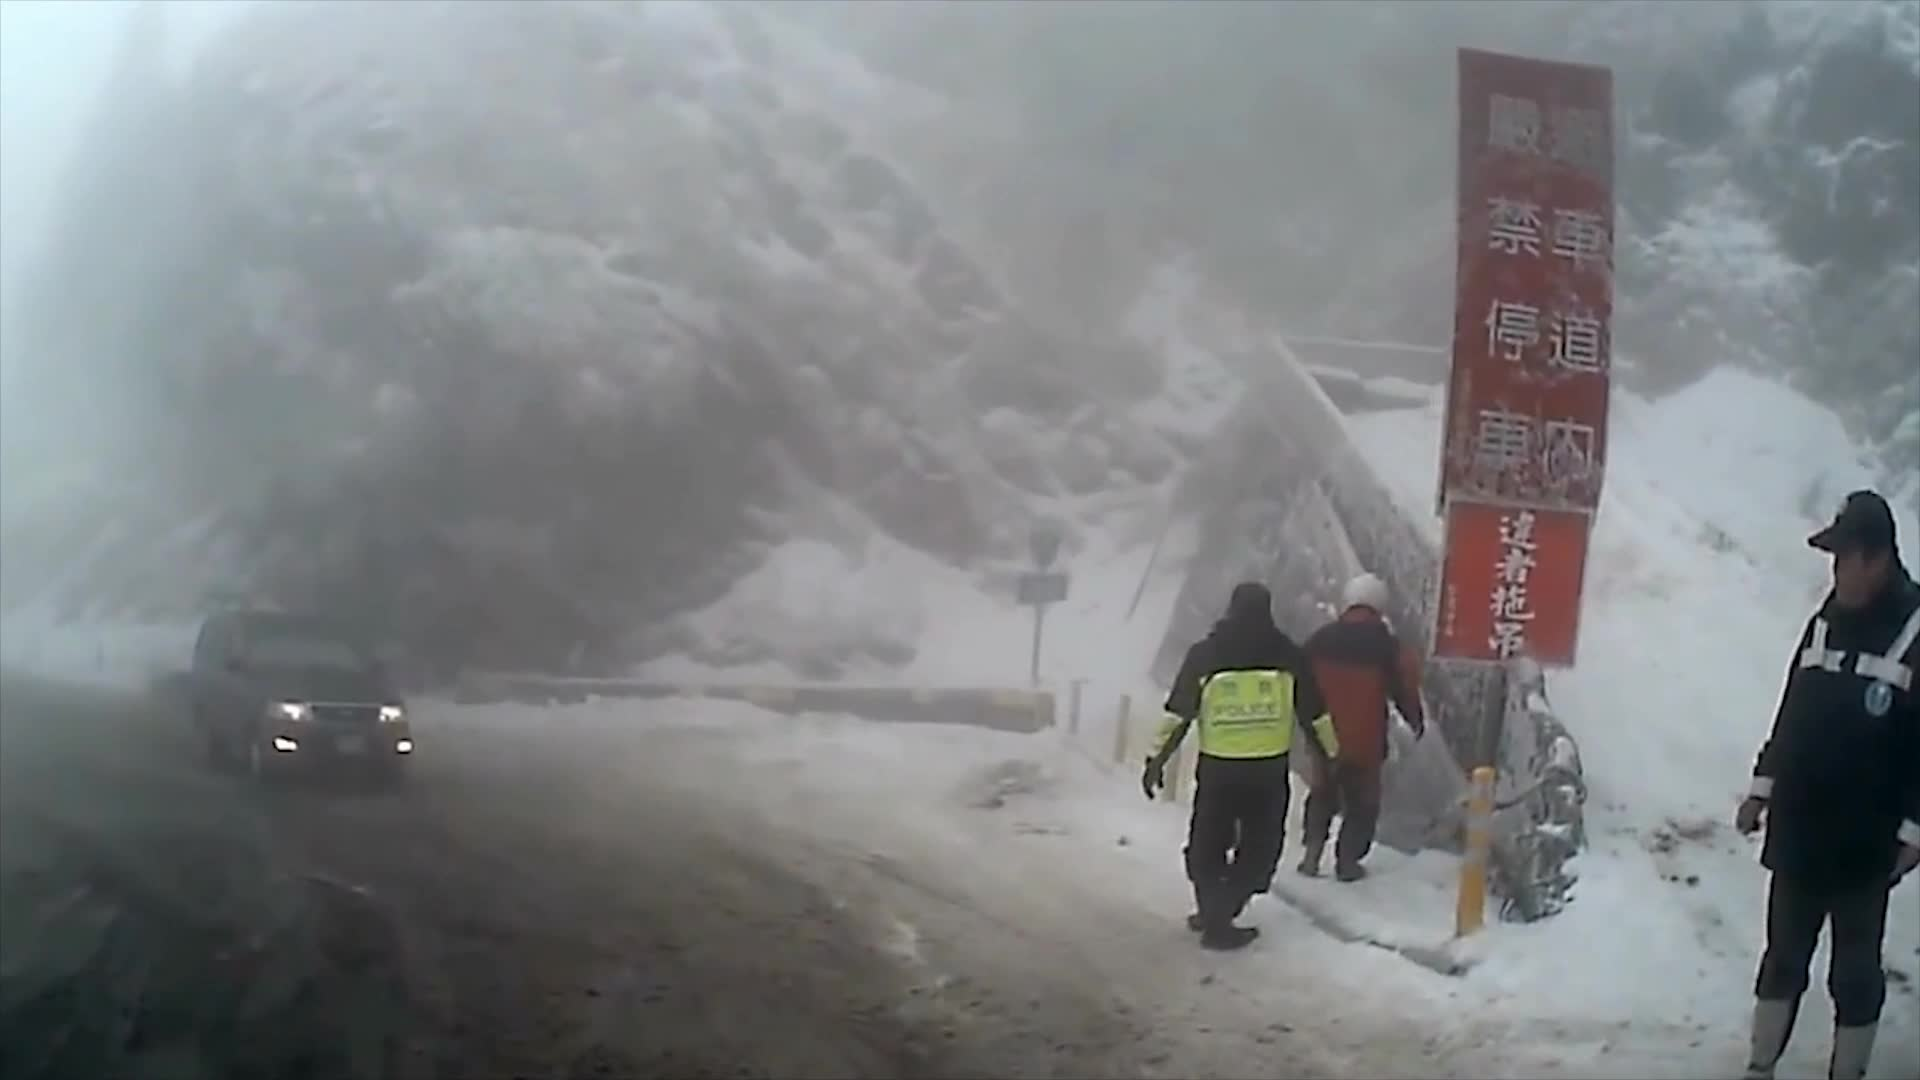pedestrian: (1737, 484, 1920, 1079), (1150, 588, 1352, 952), (1304, 578, 1429, 881)
vehicle: (185, 610, 415, 793)
